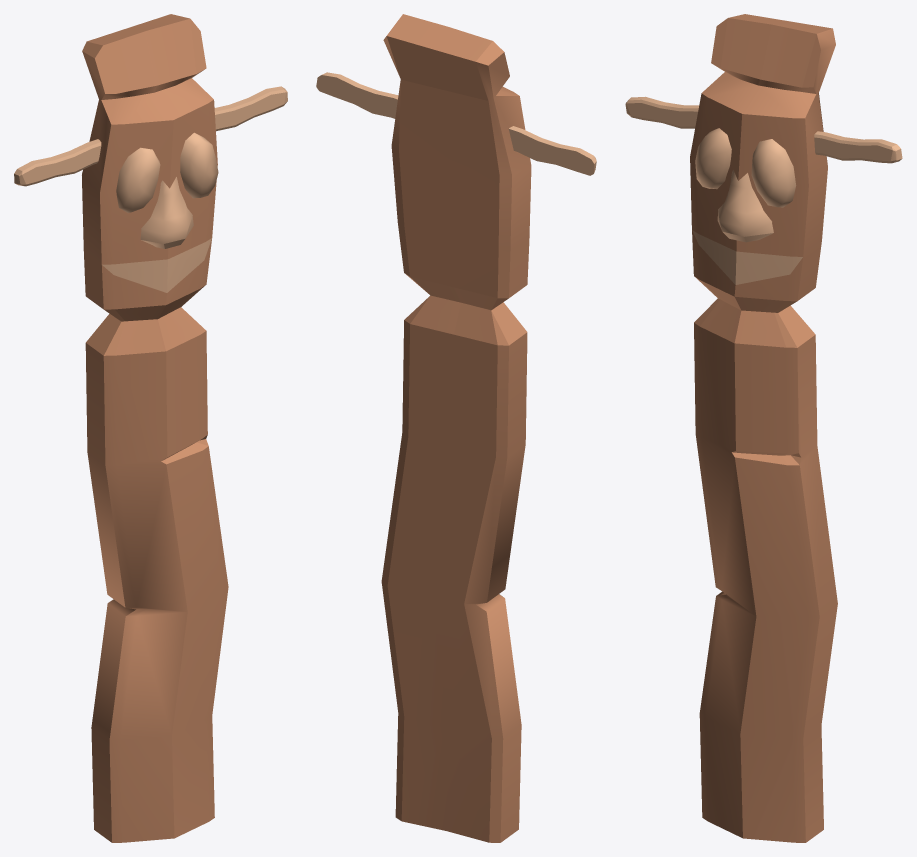
File: jangseung01.fbx
The picture shows the model from 3 angles, left to right: view 1: azimuth 30°, elevation 25°; view 2: azimuth 150°, elevation 25°; view 3: azimuth 330°, elevation 25°; orthographic projection. The views are drawn at different scales.
Parts seen in each view (by area): view 1: jangseung01; view 2: jangseung01; view 3: jangseung01.
Boxes of the visible parts, bbox=[...] form: jangseung01: bbox=[14, 14, 287, 842]; jangseung01: bbox=[316, 14, 596, 842]; jangseung01: bbox=[625, 14, 902, 842].
Bounding box in the file's own units: 18.2 × 6.13 × 50.29.
